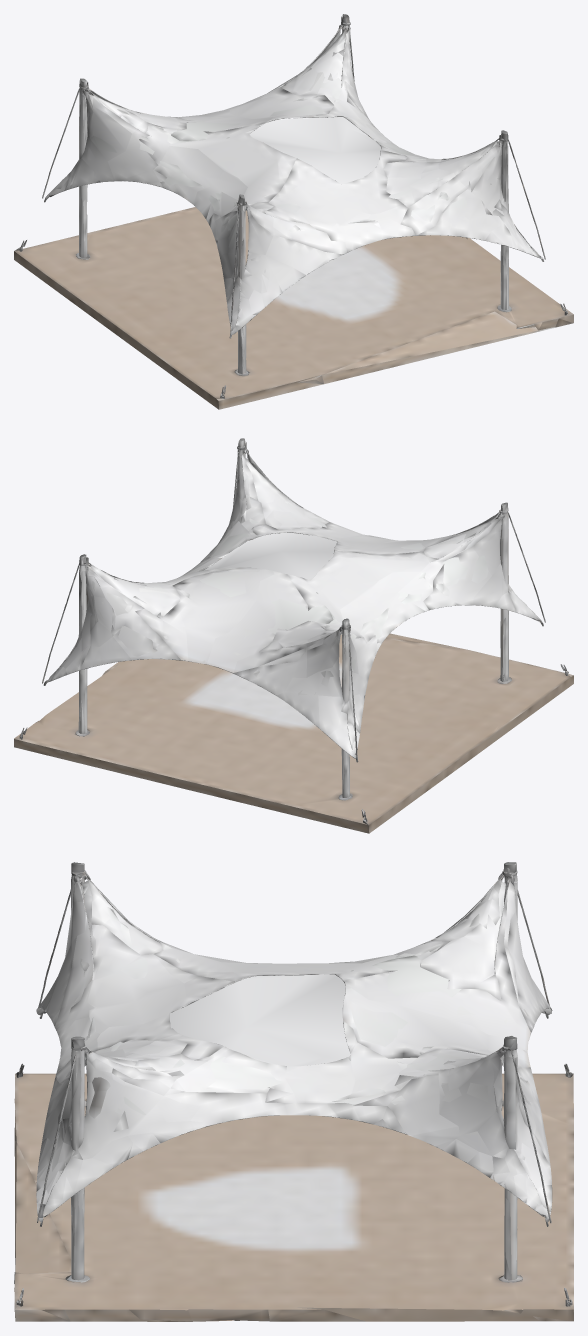
The model's file is pavilion.glb.
3 views of the same model, one above another, from view 1: azimuth 30°, elevation 25°; view 2: azimuth 150°, elevation 25°; view 3: azimuth 270°, elevation 25° (orthographic). The views are drawn at different scales.
Parts seen in each view (by area): view 1: LO; view 2: LO; view 3: LO.
Part boxes in pixels (x1=…): LO: x1=14, y1=14, x2=573, y2=409; LO: x1=14, y1=438, x2=573, y2=833; LO: x1=14, y1=862, x2=573, y2=1321.
Bounding box in the file's own units: 17.8 × 8.9 × 17.82.
Materials: 1 (1 with a texture image).
